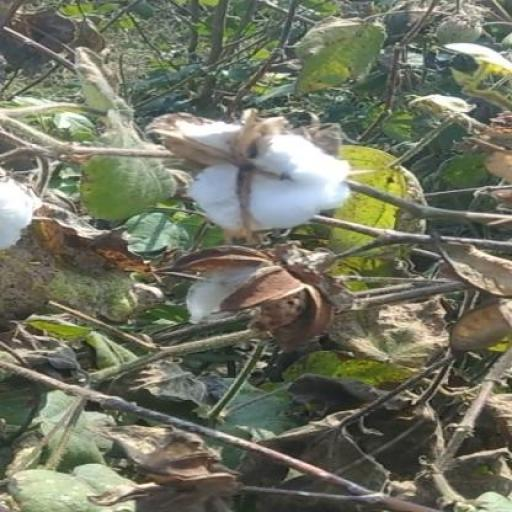cotton_ready: (143, 108, 362, 254)
